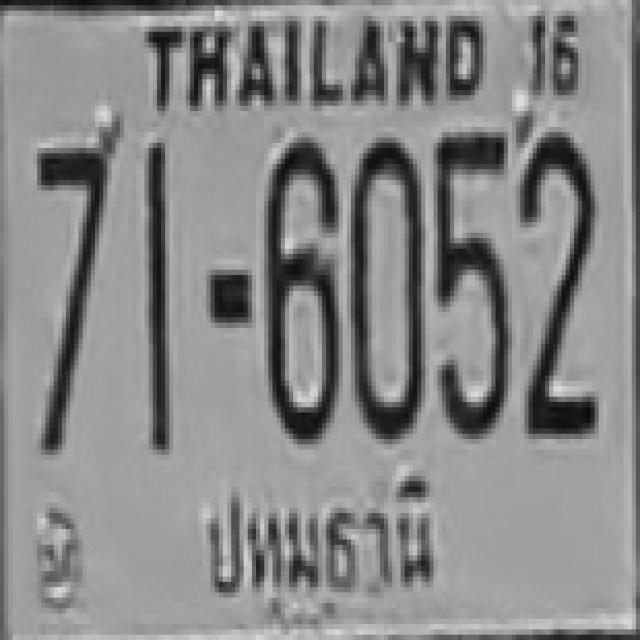0: (347, 135, 421, 431), (347, 135, 421, 383), (433, 232, 508, 433)
1: (145, 143, 165, 381)
2: (518, 132, 593, 392), (522, 193, 592, 431)
6: (262, 138, 337, 439)
7: (33, 135, 112, 341)
PathumThani: (190, 472, 443, 617)
